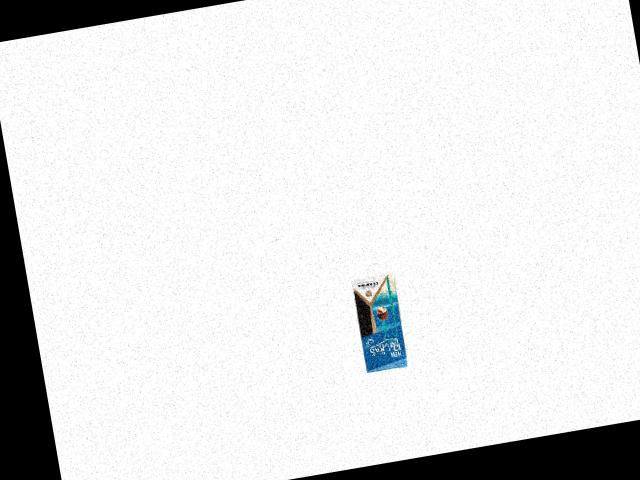chocolate: (347, 270, 410, 375)
